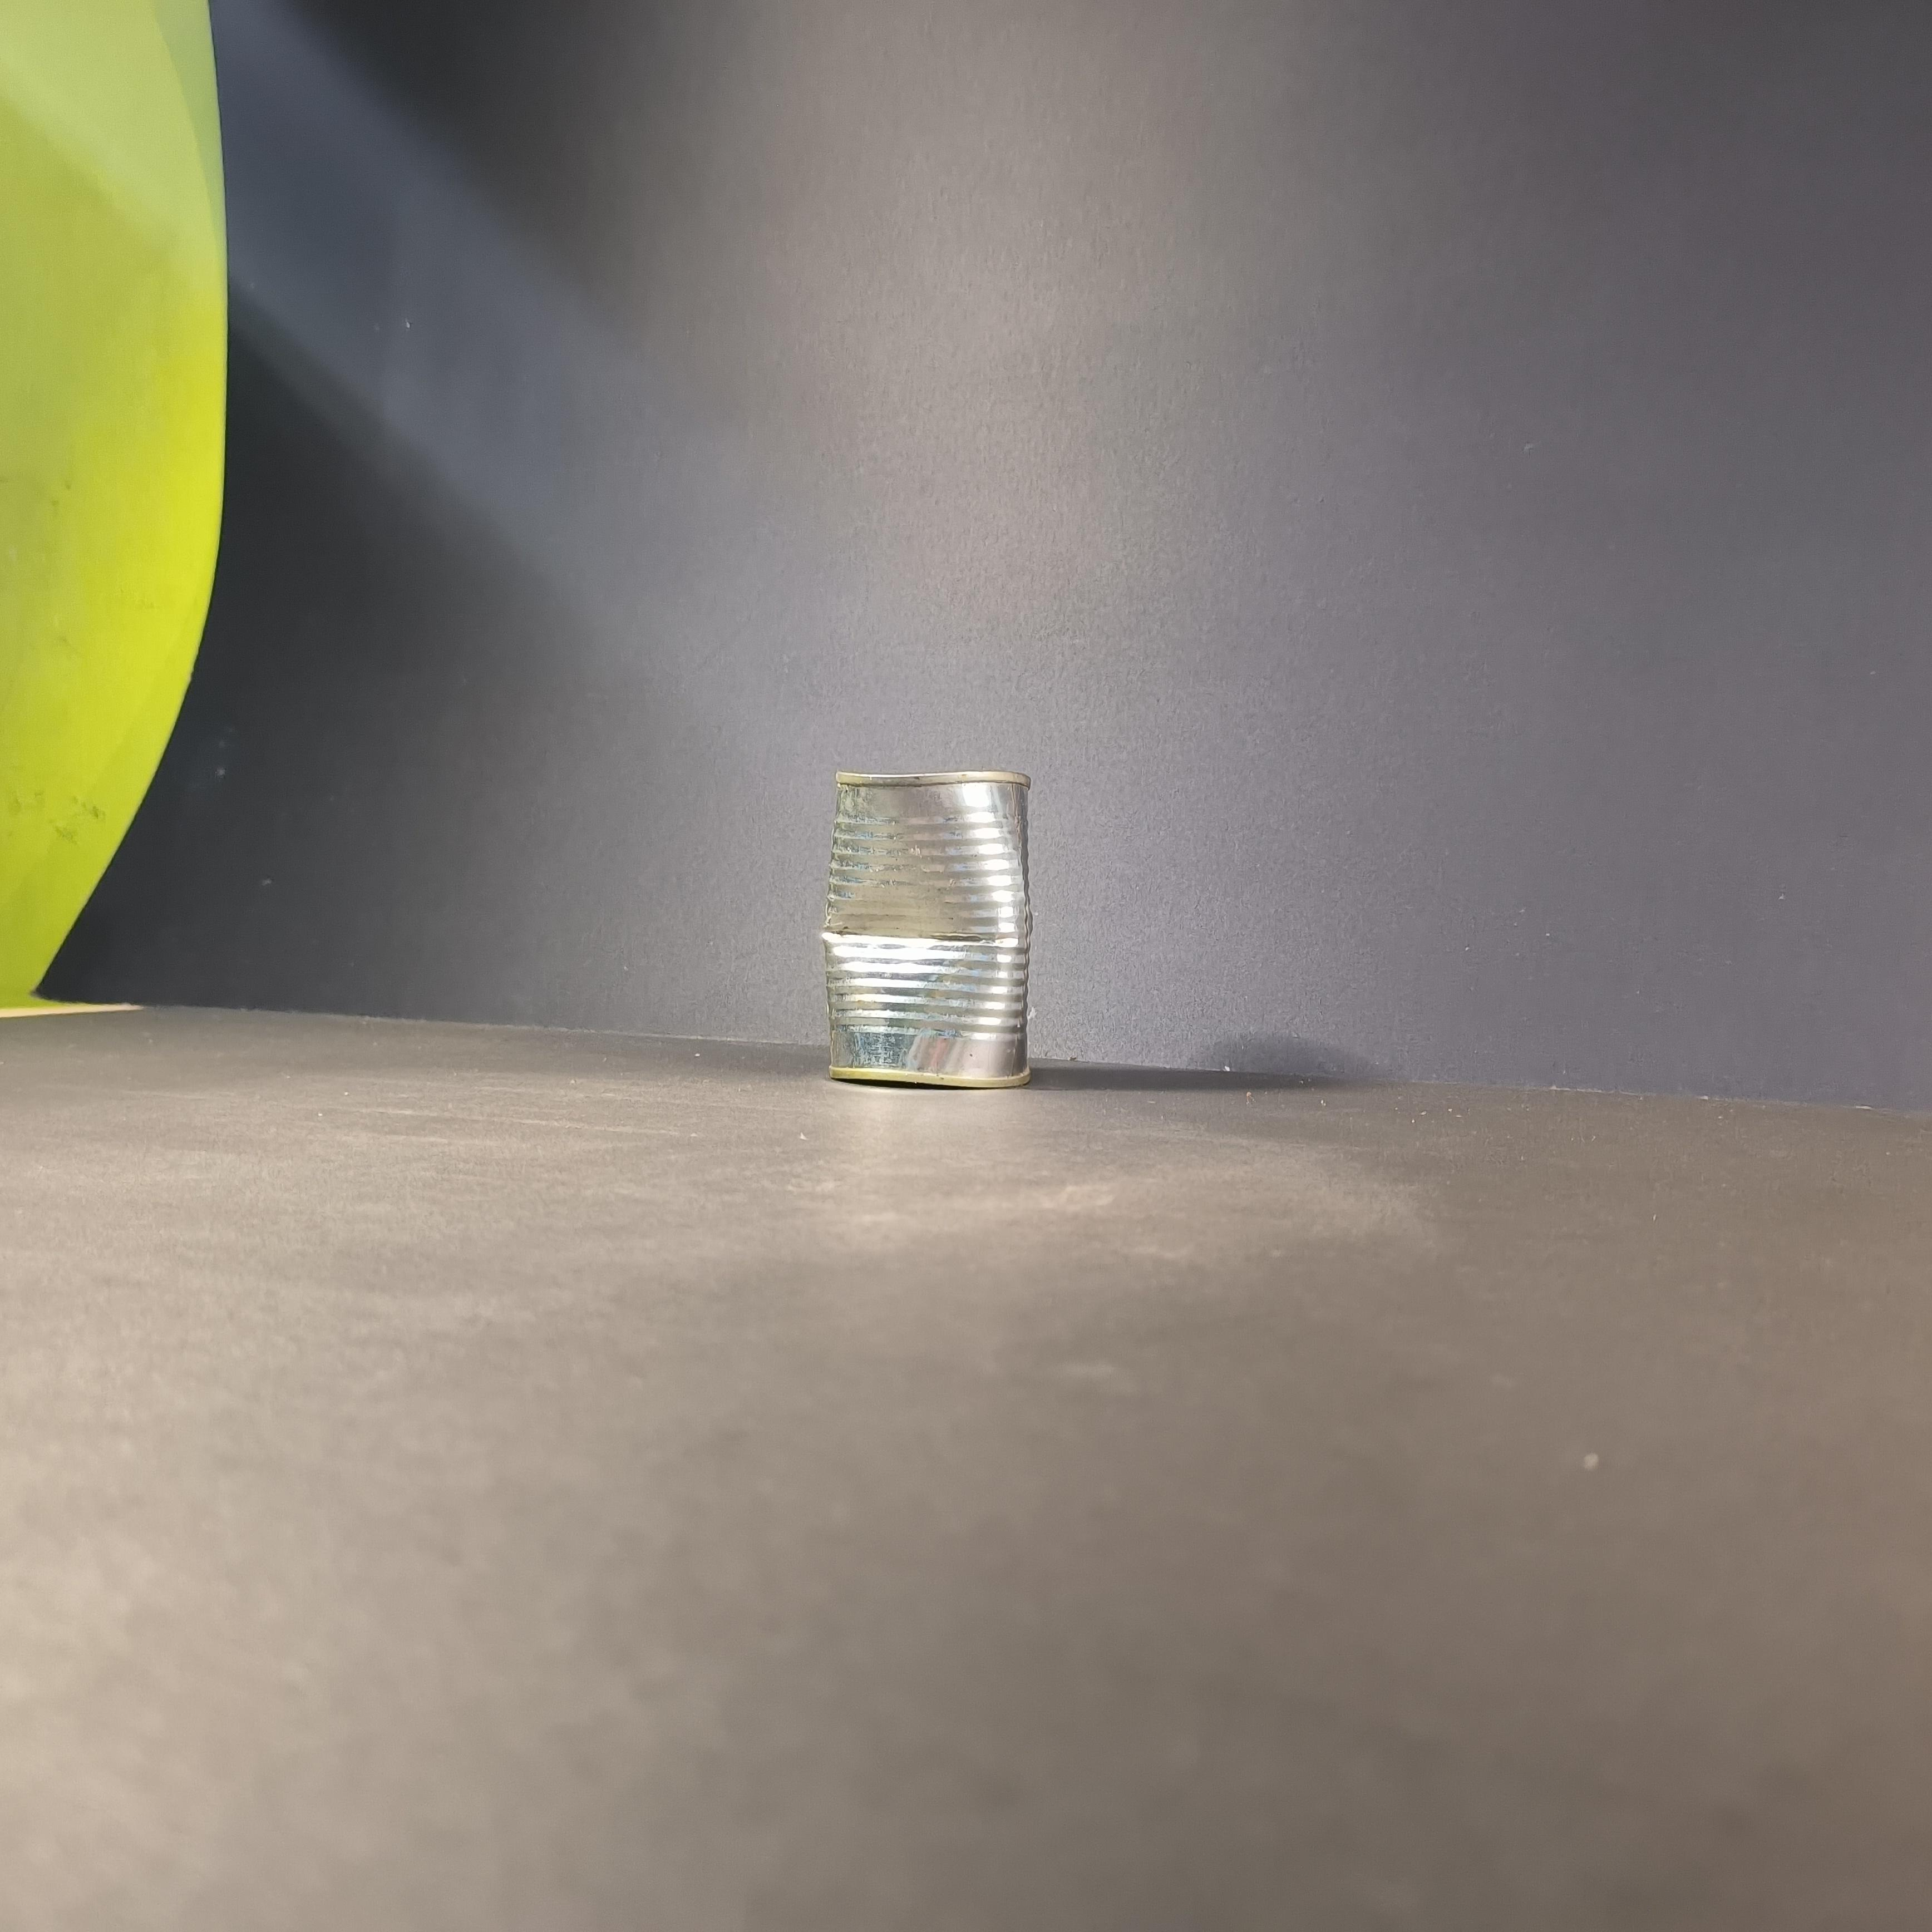Dented: (801, 725, 1051, 1090)
